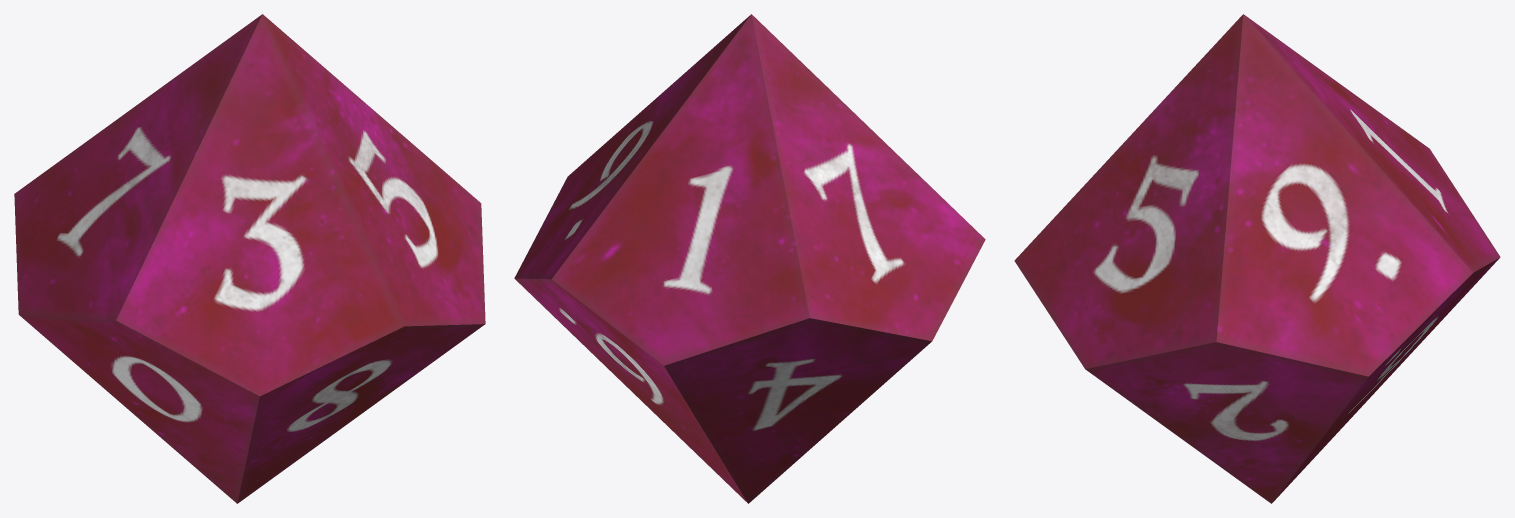
3 views of the same model, side by side, from view 1: azimuth 30°, elevation 25°; view 2: azimuth 150°, elevation 25°; view 3: azimuth 270°, elevation 25° (orthographic). The views are drawn at different scales.
Visible parts, largest first — view 1: d10; view 2: d10; view 3: d10.
Boxes of the visible parts, x1=… form: d10: x1=14, y1=14, x2=485, y2=503; d10: x1=514, y1=14, x2=985, y2=503; d10: x1=1014, y1=14, x2=1500, y2=503.
Bounding box in the file's own units: 0.9147 × 1.03 × 0.9186.
Materials: 1 (1 with a texture image).
